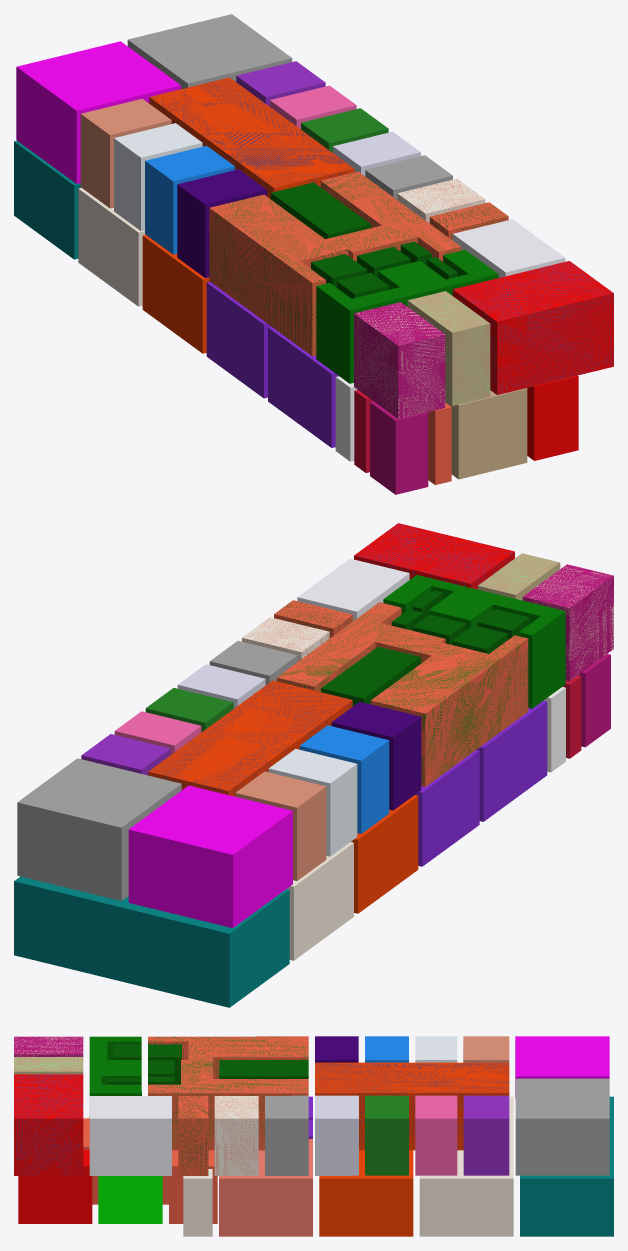
The model's file is CaddellEnergyZonesSK6.skp.dae.
The picture shows the model from 3 angles, top to bottom: view 1: azimuth 30°, elevation 25°; view 2: azimuth 150°, elevation 25°; view 3: azimuth 270°, elevation 25°; orthographic projection. The views are drawn at different scales.
Parts seen in each view (by area): view 1: Space_203__Conference_Study, Space_212__Conference_Room, Space_240.2__PhD_GRA_GTA_WorkSpace, Space_225__Open_Collaborative_Work_Area, Space_208__Future_CRC_Admin_Conference_Room, Space_240.1__PhD_GRA_GTA_WorkSpace, Space_205__Corridor, Space_110__Conference_Room, Space_210__Part-Time_Faculty_Office, Space_104__Women_s_Restroom, Space_122__Master_s_Laboratory, Space_124__FlexSpace (+23 smaller); view 2: Space_126__FlexSpace, Space_240.2__PhD_GRA_GTA_WorkSpace, Space_203__Conference_Study, Space_240.1__PhD_GRA_GTA_WorkSpace, Space_225__Open_Collaborative_Work_Area, Space_205__Corridor, Space_212__Conference_Room, Space_208__Future_CRC_Admin_Conference_Room, Space_104__Women_s_Restroom, Space_122__Master_s_Laboratory, Space_124__FlexSpace, Space_103__Men_s_Restroom (+20 smaller); view 3: Space_240.1__PhD_GRA_GTA_WorkSpace, Space_203__Conference_Study, Space_225__Open_Collaborative_Work_Area, Space_212__Conference_Room, Space_214__Chair_Office, Space_124__FlexSpace, Space_126__FlexSpace, Space_122__Master_s_Laboratory, Space_120__Lobby, Space_240.2__PhD_GRA_GTA_WorkSpace, Space_228__Faculty_Office, Space_112__Recruitment_Manager (+21 smaller).
Boxes of the visible parts, left/top/right/bottom form: Space_203__Conference_Study: left=209, top=171, right=461, bottom=356; Space_212__Conference_Room: left=452, top=261, right=613, bottom=394; Space_240.2__PhD_GRA_GTA_WorkSpace: left=16, top=41, right=180, bottom=183; Space_225__Open_Collaborative_Work_Area: left=149, top=77, right=354, bottom=199; Space_208__Future_CRC_Admin_Conference_Room: left=354, top=302, right=445, bottom=419; Space_240.1__PhD_GRA_GTA_WorkSpace: left=127, top=14, right=292, bottom=88; Space_205__Corridor: left=316, top=250, right=498, bottom=383; Space_110__Conference_Room: left=445, top=388, right=527, bottom=479; Space_210__Part-Time_Faculty_Office: left=407, top=291, right=490, bottom=405; Space_104__Women_s_Restroom: left=268, top=326, right=338, bottom=447; Space_122__Master_s_Laboratory: left=142, top=235, right=209, bottom=353; Space_124__FlexSpace: left=78, top=188, right=145, bottom=306; Space_126__FlexSpace: left=14, top=876, right=289, bottom=1007; Space_240.2__PhD_GRA_GTA_WorkSpace: left=128, top=785, right=292, bottom=927; Space_203__Conference_Study: left=276, top=602, right=528, bottom=786; Space_240.1__PhD_GRA_GTA_WorkSpace: left=17, top=758, right=181, bottom=900; Space_225__Open_Collaborative_Work_Area: left=148, top=680, right=352, bottom=796; Space_205__Corridor: left=383, top=575, right=565, bottom=708; Space_212__Conference_Room: left=354, top=523, right=514, bottom=589; Space_208__Future_CRC_Admin_Conference_Room: left=522, top=564, right=613, bottom=681; Space_104__Women_s_Restroom: left=476, top=700, right=547, bottom=821; Space_122__Master_s_Laboratory: left=351, top=795, right=418, bottom=913; Space_124__FlexSpace: left=287, top=842, right=353, bottom=960; Space_103__Men_s_Restroom: left=415, top=750, right=479, bottom=866; Space_240.1__PhD_GRA_GTA_WorkSpace: left=515, top=1078, right=609, bottom=1175; Space_203__Conference_Study: left=148, top=1036, right=308, bottom=1150; Space_225__Open_Collaborative_Work_Area: left=315, top=1062, right=509, bottom=1150; Space_212__Conference_Room: left=14, top=1074, right=83, bottom=1175; Space_214__Chair_Office: left=89, top=1096, right=171, bottom=1175; Space_124__FlexSpace: left=419, top=1096, right=513, bottom=1236; Space_126__FlexSpace: left=520, top=1096, right=613, bottom=1236; Space_122__Master_s_Laboratory: left=319, top=1150, right=413, bottom=1236; Space_120__Lobby: left=219, top=1139, right=312, bottom=1236; Space_240.2__PhD_GRA_GTA_WorkSpace: left=515, top=1036, right=609, bottom=1098; Space_228__Faculty_Office: left=463, top=1095, right=509, bottom=1175; Space_112__Recruitment_Manager: left=18, top=1149, right=92, bottom=1223.
Size of the model in its own units: 489 by 1508 by 327.
